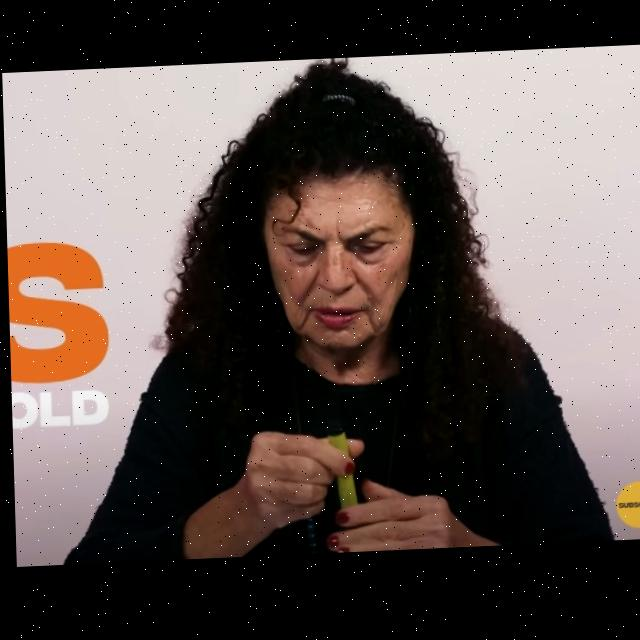vape: (324, 420, 355, 514)
